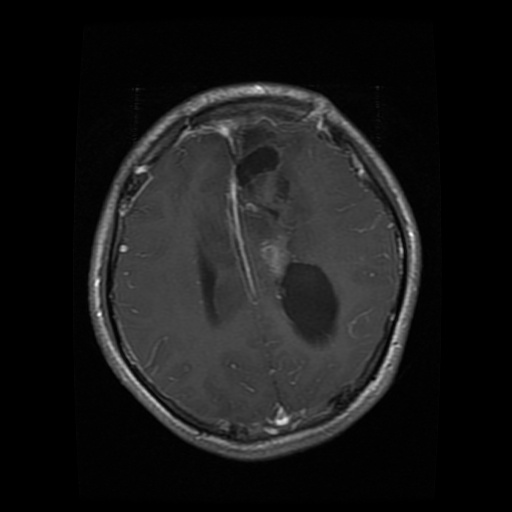glioma: (279, 261, 340, 344)
